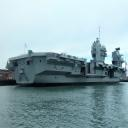Portanaves: (7, 29, 128, 88)
